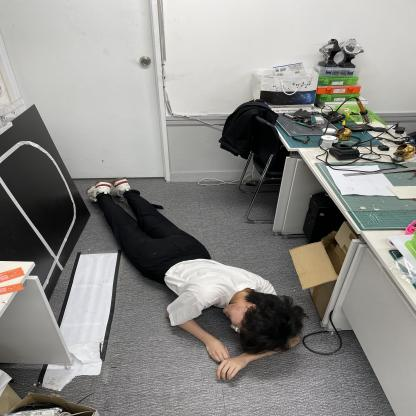fall: (88, 177, 304, 380)
